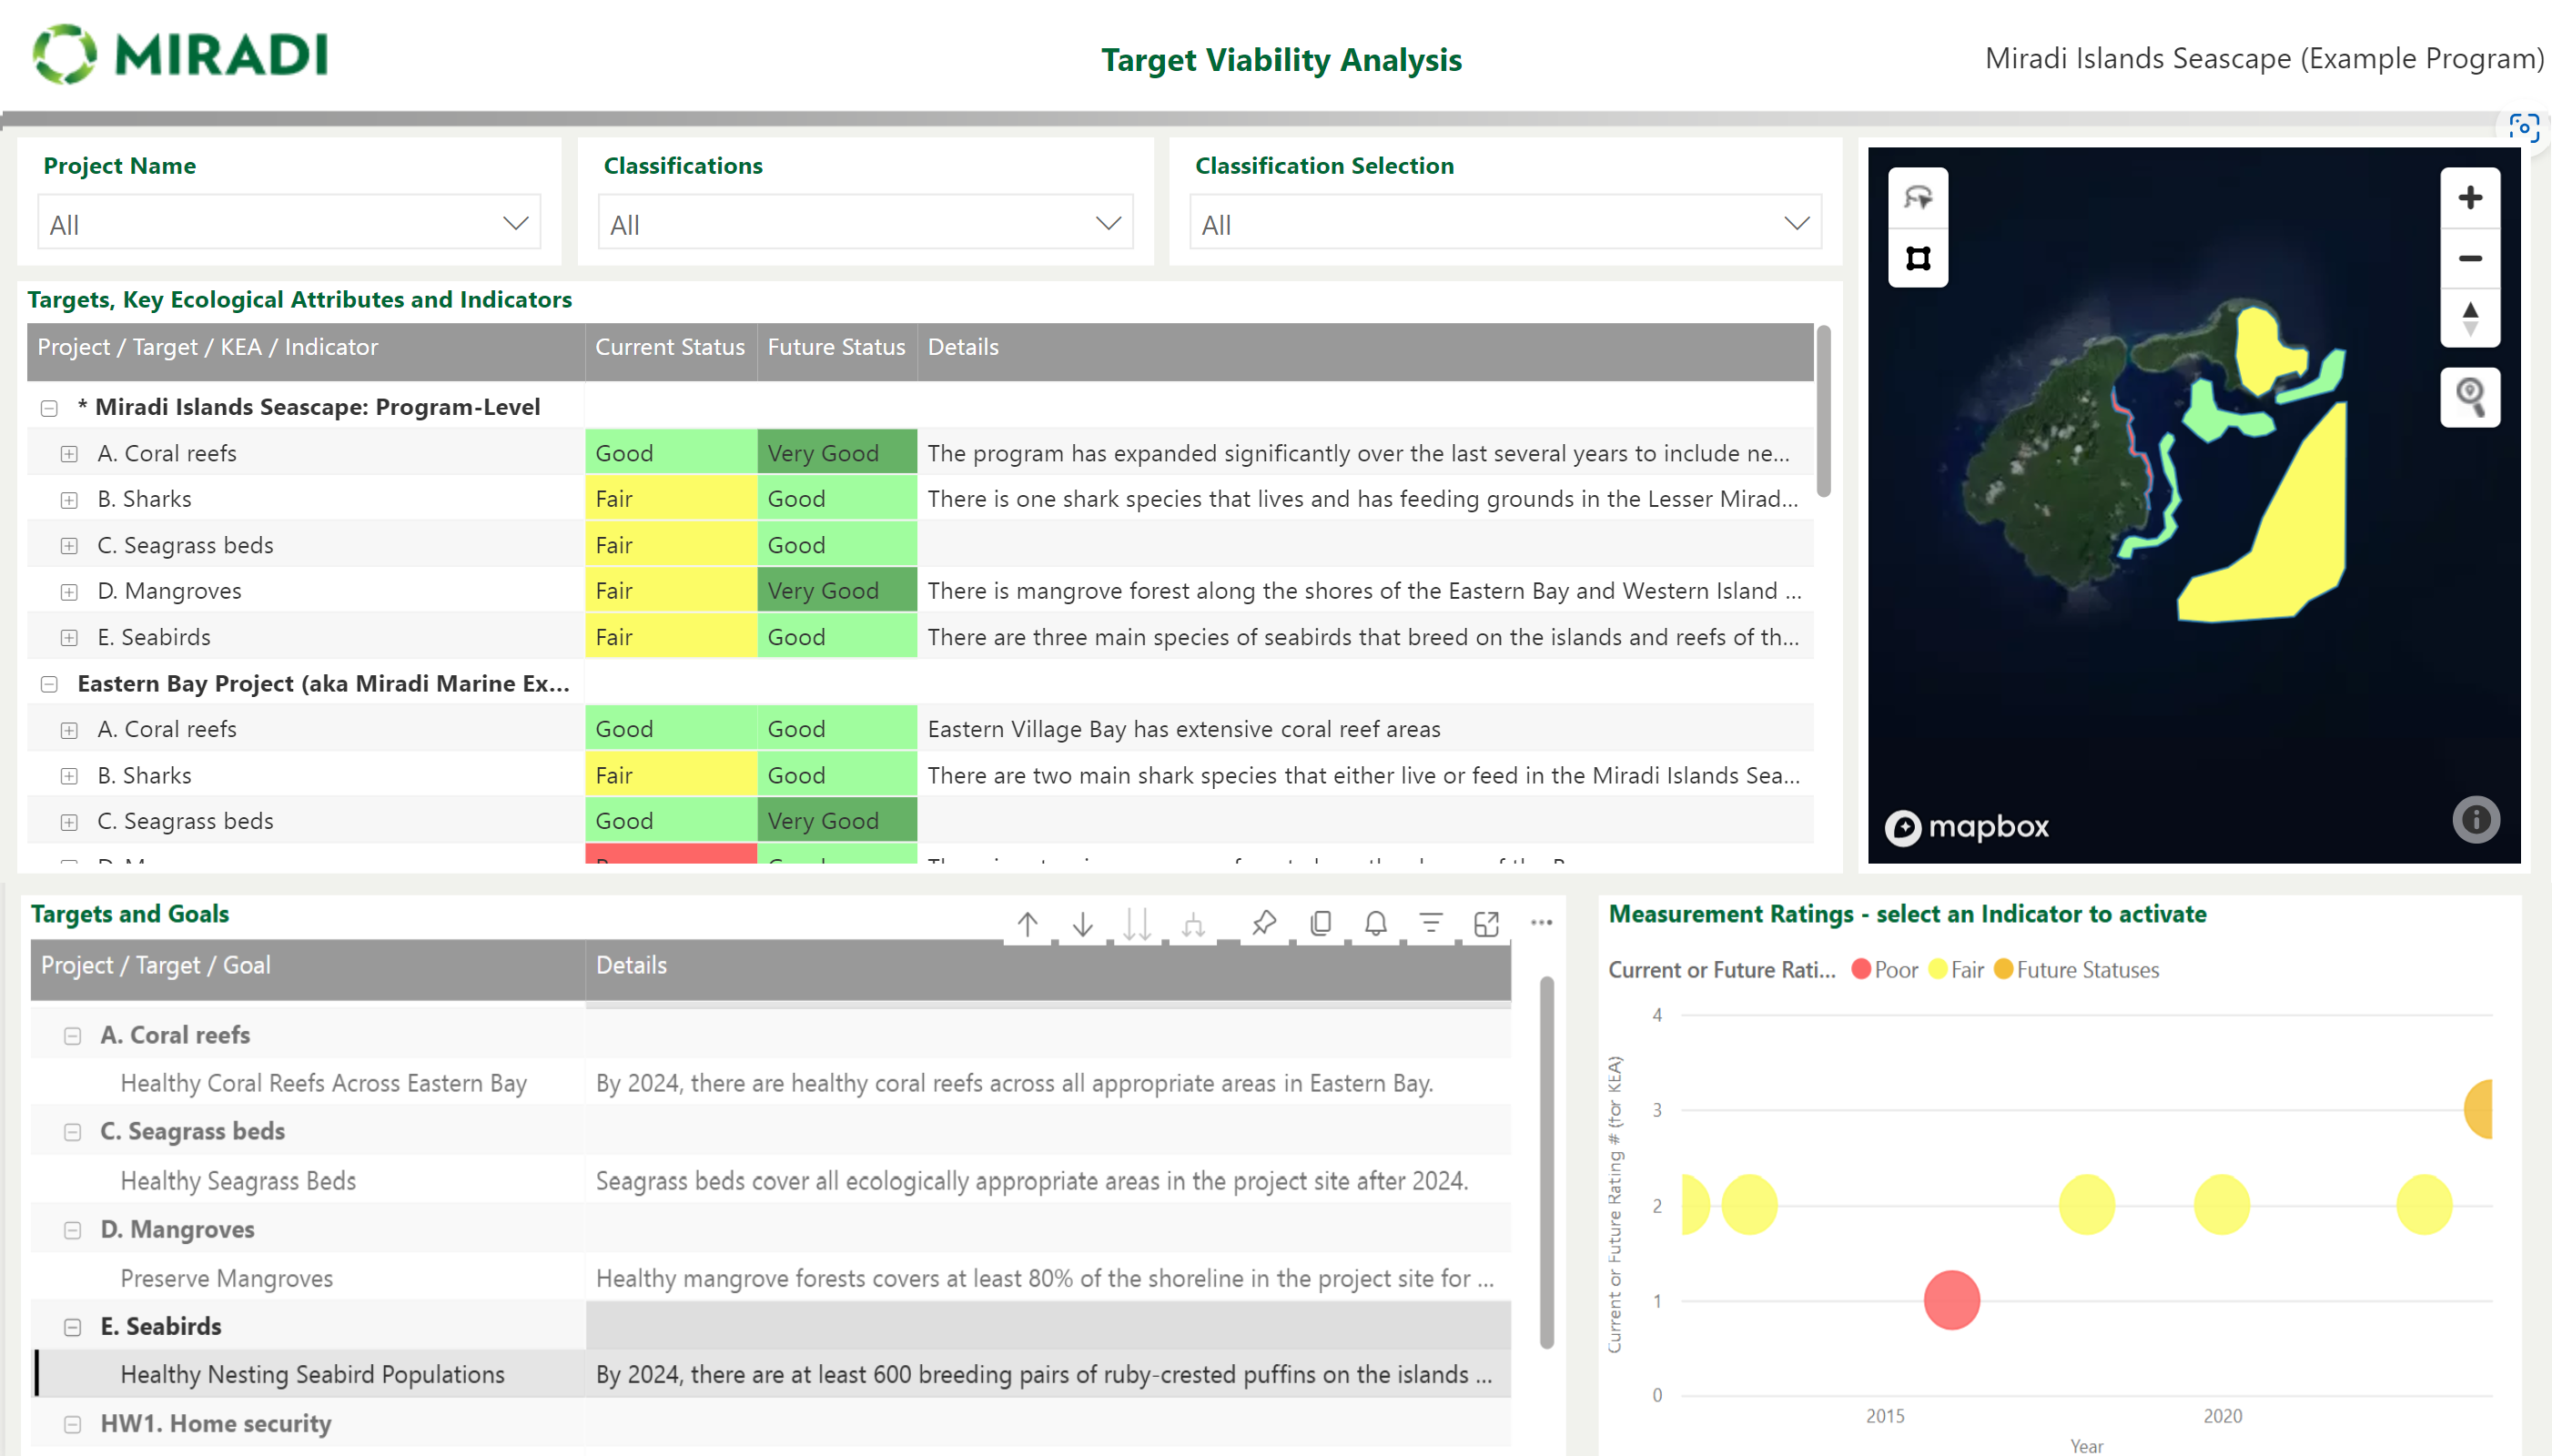

Layout of this report page (visuals, bound fields, positions):
{"tool":"powerbi","page":{"name":"Target Viability Analysis","canvas":[1280,720],"ordinal":5},"visuals":[{"type":"iconMapV34089C0EB522B416294AA926F71B4FDBB","title":"Target Footprints - Current Status","fields":{"category":["Projects.Project Name","Targets.Target ID and Name","Target Footprints - WKT.Target Footprints Index"],"Size":["Targets.# Targets"]},"box":[800,72,464,368],"z":0},{"type":"slicer","fields":{"Values":["Projects.Title"]},"box":[8,72,272,64],"z":1000},{"type":"slicer","fields":{"Values":["Targets - Taxonomies.Taxonomy Name"]},"box":[288,72,240,64],"z":2000},{"type":"pivotTable","title":"Targets and Goals","fields":{"Rows":["Projects.Project Name","Targets.Target ID and Name","Goals (for Targets).Goal Name"],"Values":["Targets.Target / Goal / KEA - Details"]},"box":[8,448,776,272],"z":3000},{"type":"pivotTable","title":"Targets, Key Ecological Attributes and Indicators","fields":{"Rows":["Projects.Project Name","Targets.Target ID and Name","Key Ecological Attributes.Key Ecological Attribute ID and Name","Indicators.Indicator ID and Name"],"Values":["Targets.Target Viability Analysis - Current Status","Targets.Target Viability Analysis - Future Status","Targets.Target Viability Analysis - Details"]},"box":[8,143.6,775.9,296.2],"z":4000},{"type":"scatterChart","title":"Measurement Ratings - select an Indicator to activate","fields":{"Y":["Measurements incl Future Status.Rating #"],"X":["Measurements incl Future Status.Measurement Date.Variation.Date Hierarchy.Year"],"Series":["Measurements incl Future Status.Current or Future Rating"]},"box":[800,448,464,272],"z":5000},{"type":"textbox","box":[0,16,1280,32],"z":6000},{"type":"slicer","fields":{"Values":["Targets - Taxonomies.Element Name"]},"box":[536,72,248,64],"z":7000},{"type":"actionButton","box":[8,8,176,40],"z":8000},{"type":"htmlContent443BE3AD55E043BF878BED274D3A6865","fields":{"content":["Programs.Program Name"]},"box":[752,16,528,32],"z":9000}]}

Visuals, with their boxes in screenshot pixels (x1, y1, x2, y2), scaled from the page's 1280x720 canvas onto the 2552x1456 screenshot:
"Target Footprints - Current Status" iconMapV34089C0EB522B416294AA926F71B4FDBB: bbox=(1595, 146, 2520, 890)
slicer - Projects.Title: bbox=(16, 146, 558, 275)
slicer - Targets - Taxonomies.Taxonomy Name: bbox=(574, 146, 1053, 275)
"Targets and Goals" pivotTable: bbox=(16, 906, 1563, 1455)
"Targets, Key Ecological Attributes and Indicators" pivotTable: bbox=(16, 290, 1563, 889)
"Measurement Ratings - select an Indicator to activate" scatterChart: bbox=(1595, 906, 2520, 1455)
textbox: bbox=(0, 33, 2551, 97)
slicer - Targets - Taxonomies.Element Name: bbox=(1068, 146, 1563, 275)
actionButton: bbox=(16, 16, 367, 97)
htmlContent443BE3AD55E043BF878BED274D3A6865 - Programs.Program Name: bbox=(1499, 33, 2551, 97)
